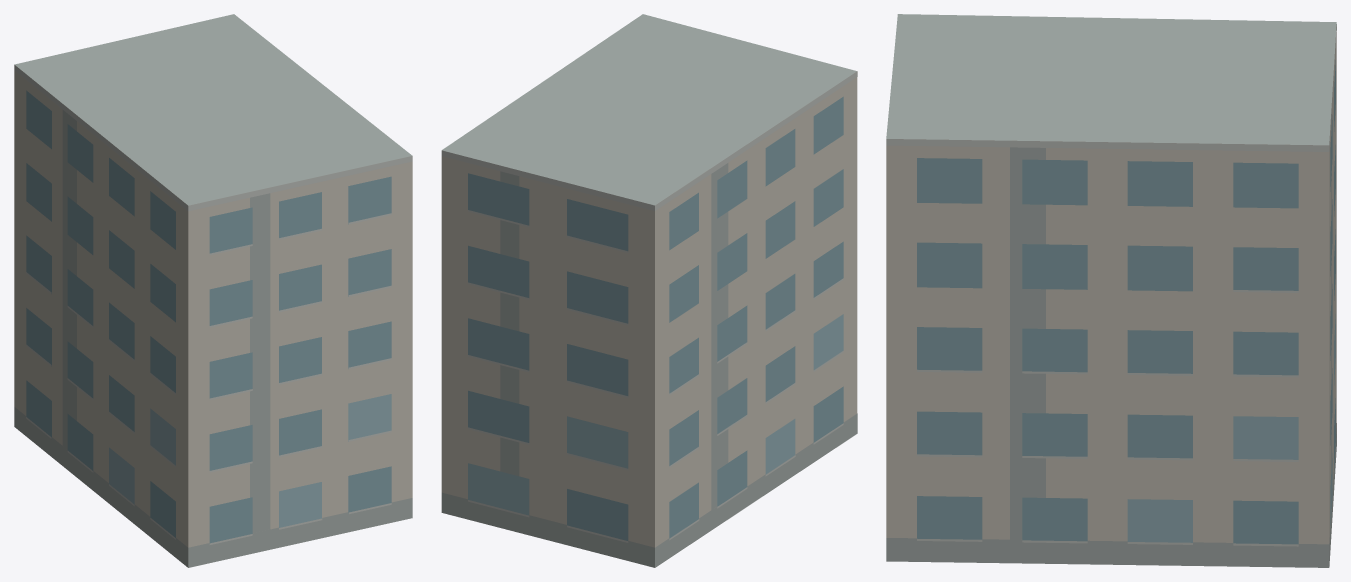
File: survey-upis-32501363.glb
The picture shows the model from 3 angles, left to right: view 1: azimuth 30°, elevation 25°; view 2: azimuth 150°, elevation 25°; view 3: azimuth 270°, elevation 25°; orthographic projection. The views are drawn at different scales.
Visible parts, largest first — view 1: survey-upis-32501363.tmp; view 2: survey-upis-32501363.tmp; view 3: survey-upis-32501363.tmp.
Part boxes in pixels (x1,y1,x2,y2): survey-upis-32501363.tmp: (14,14,412,567); survey-upis-32501363.tmp: (441,14,857,567); survey-upis-32501363.tmp: (886,14,1336,567).
Size of the model in its own units: 10.28 by 15.4 by 14.89.
